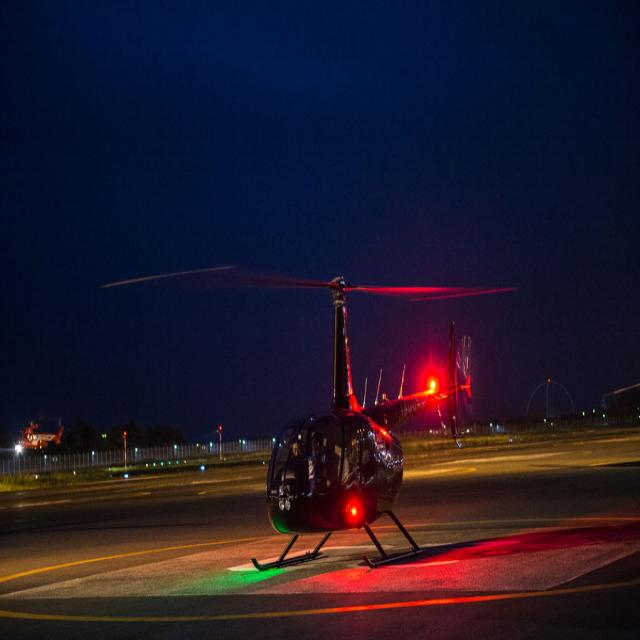helicopter: (99, 178, 534, 510)
